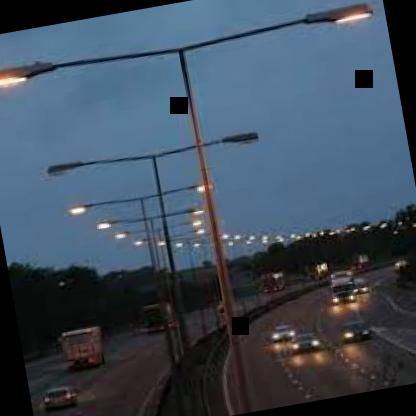car: (56, 314, 132, 386), (134, 296, 182, 342), (313, 263, 359, 310), (42, 376, 84, 413), (256, 310, 296, 347), (334, 313, 374, 349), (284, 328, 322, 360)
